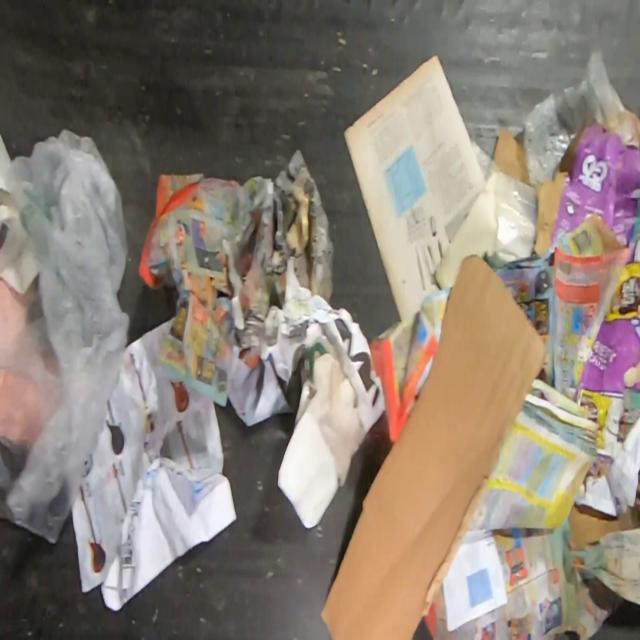cardboard: (318, 251, 548, 640), (533, 120, 640, 401), (276, 350, 367, 529), (566, 473, 640, 551), (492, 123, 527, 183)
soft_plastic: (0, 126, 131, 546), (522, 47, 640, 186), (468, 135, 538, 259)
